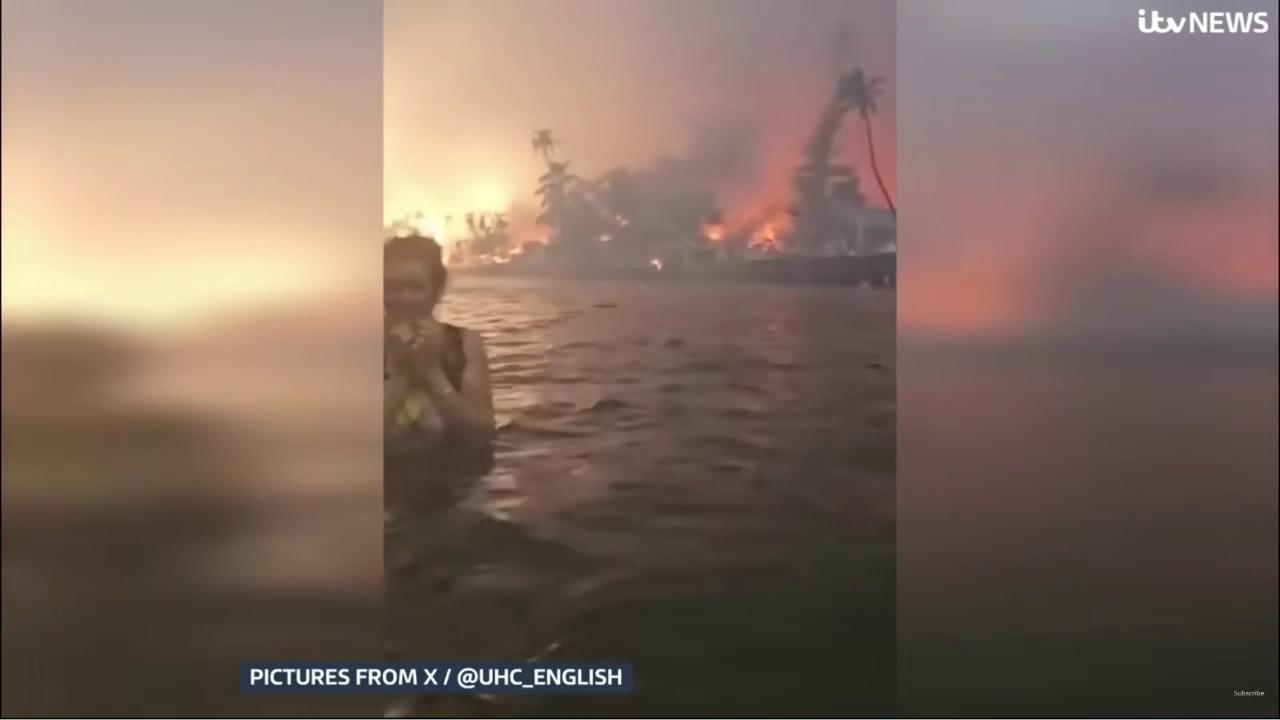fire: (744, 222, 783, 252), (694, 221, 724, 242), (474, 251, 510, 265), (505, 242, 528, 254), (648, 258, 663, 272)
smoke: (384, 0, 897, 277)
